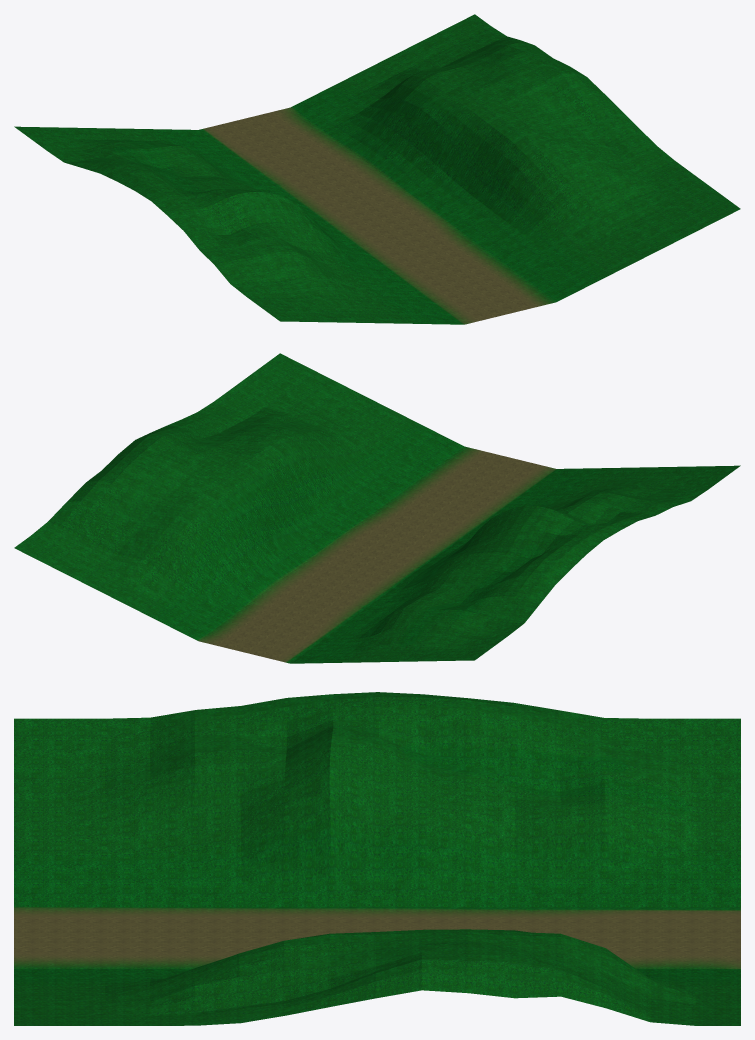
File: summerterrain1.fbx
The picture shows the model from 3 angles, top to bottom: view 1: azimuth 30°, elevation 25°; view 2: azimuth 150°, elevation 25°; view 3: azimuth 270°, elevation 25°; orthographic projection. The views are drawn at different scales.
Visible parts, largest first — view 1: terrain; view 2: terrain; view 3: terrain.
Part boxes in pixels (box(x1,y1,x2,y2)): terrain: box(14, 14, 740, 324); terrain: box(14, 353, 740, 663); terrain: box(14, 692, 740, 1025).
Size of the model in its own units: 3000 by 509 by 3000.
